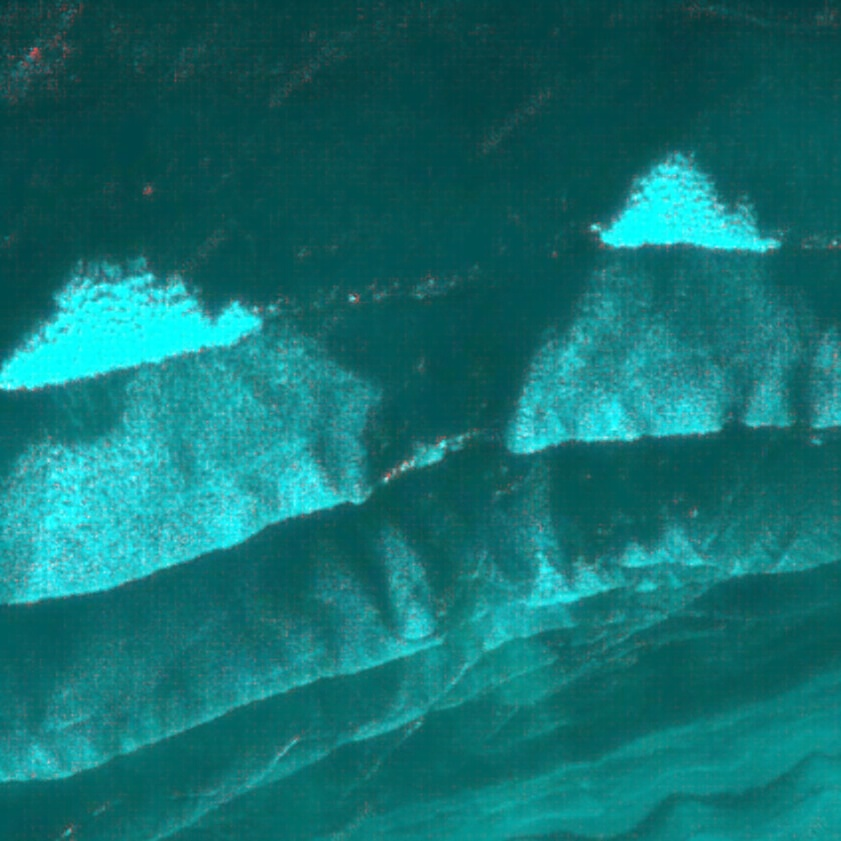rip_current: (289, 240, 606, 569)
